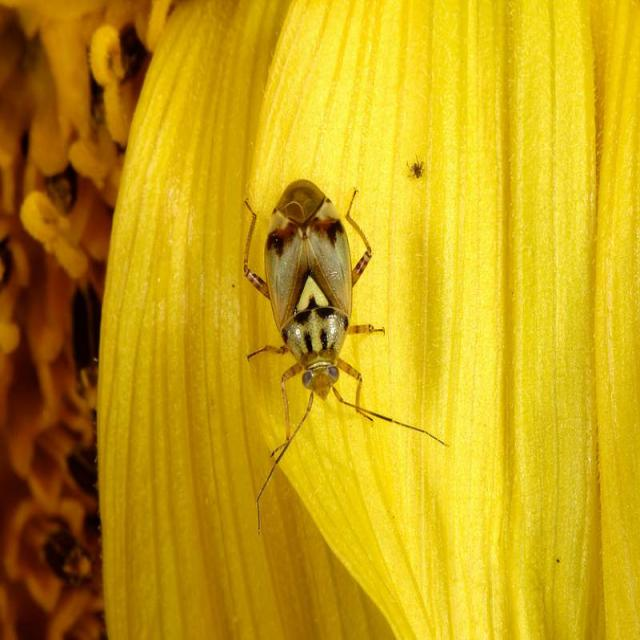Miridae-Adult-: (215, 172, 438, 460)
